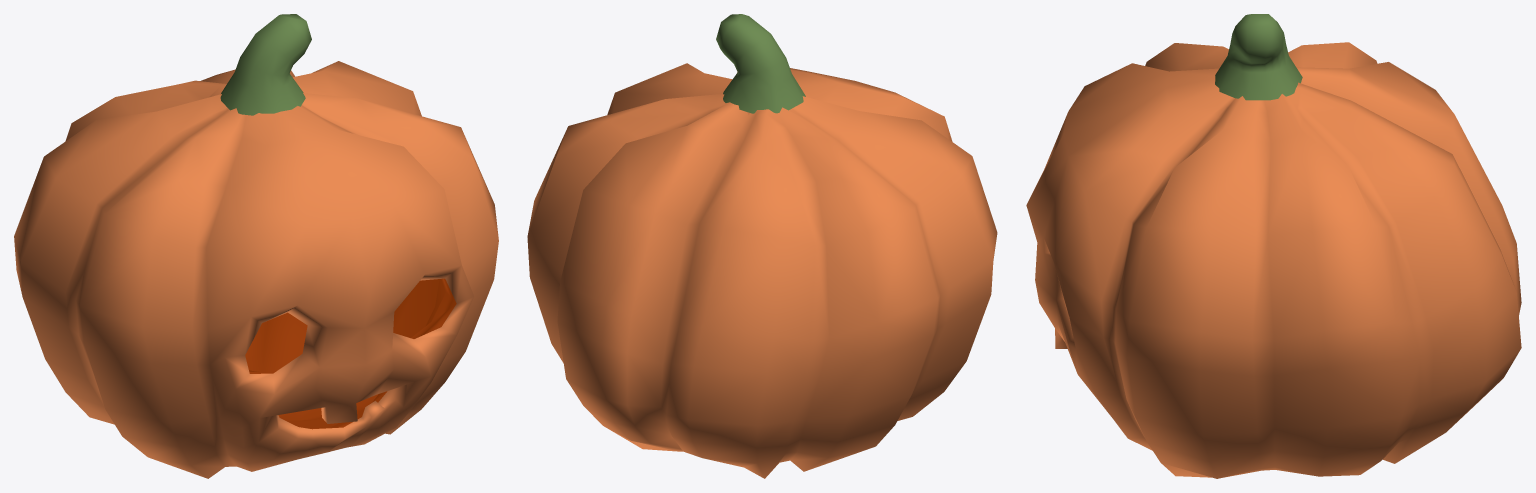
Rendered from pumpkin_2 (2).fbx.
3 views of the same model, side by side, from view 1: azimuth 30°, elevation 25°; view 2: azimuth 150°, elevation 25°; view 3: azimuth 270°, elevation 25° (orthographic). The views are drawn at different scales.
Parts seen in each view (by area): view 1: pumpkin_2; view 2: pumpkin_2; view 3: pumpkin_2.
Part boxes in pixels (x1,y1,x2,y2): pumpkin_2: (14,14,498,478); pumpkin_2: (527,14,997,478); pumpkin_2: (1026,14,1521,478).
Size of the model in its own units: 129 by 124 by 125.
